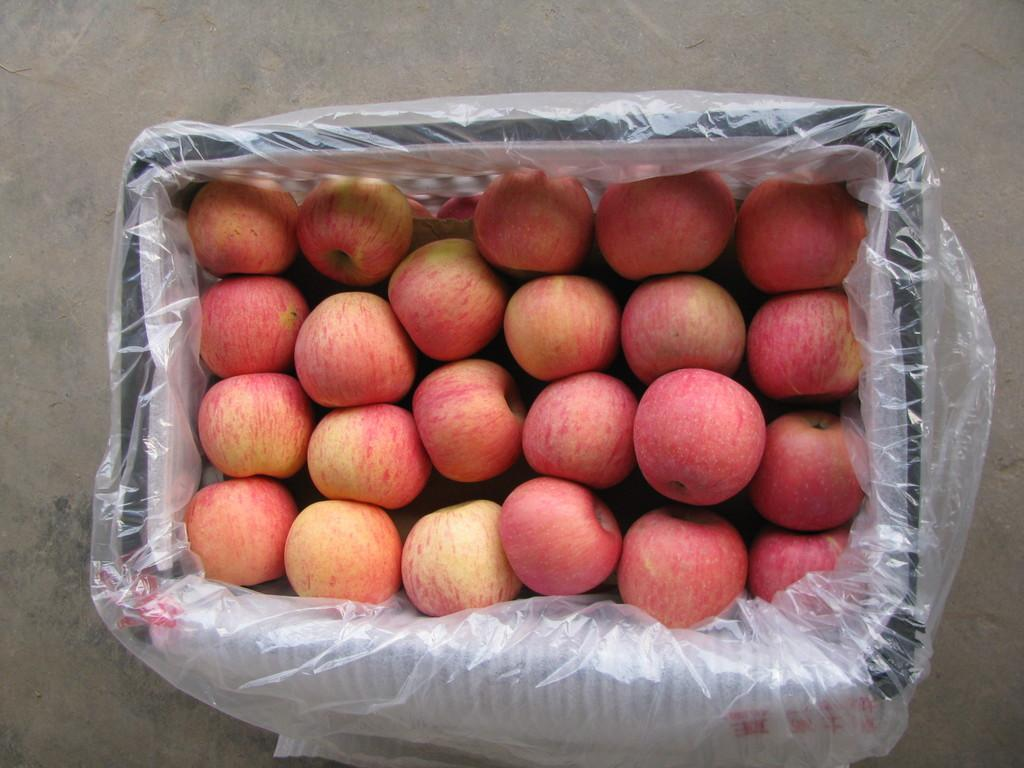apple: (635, 370, 766, 510), (615, 502, 749, 630), (732, 175, 867, 295), (592, 167, 734, 281), (385, 238, 507, 360), (499, 474, 619, 596), (748, 409, 862, 533), (414, 355, 522, 484), (295, 287, 412, 406), (400, 500, 517, 617), (471, 165, 592, 278), (522, 369, 640, 481), (292, 177, 412, 287), (281, 498, 399, 606), (746, 288, 865, 395), (305, 402, 424, 508), (196, 371, 315, 477), (186, 474, 294, 588), (620, 281, 746, 377), (504, 276, 618, 379), (199, 278, 305, 375), (191, 181, 291, 278)
